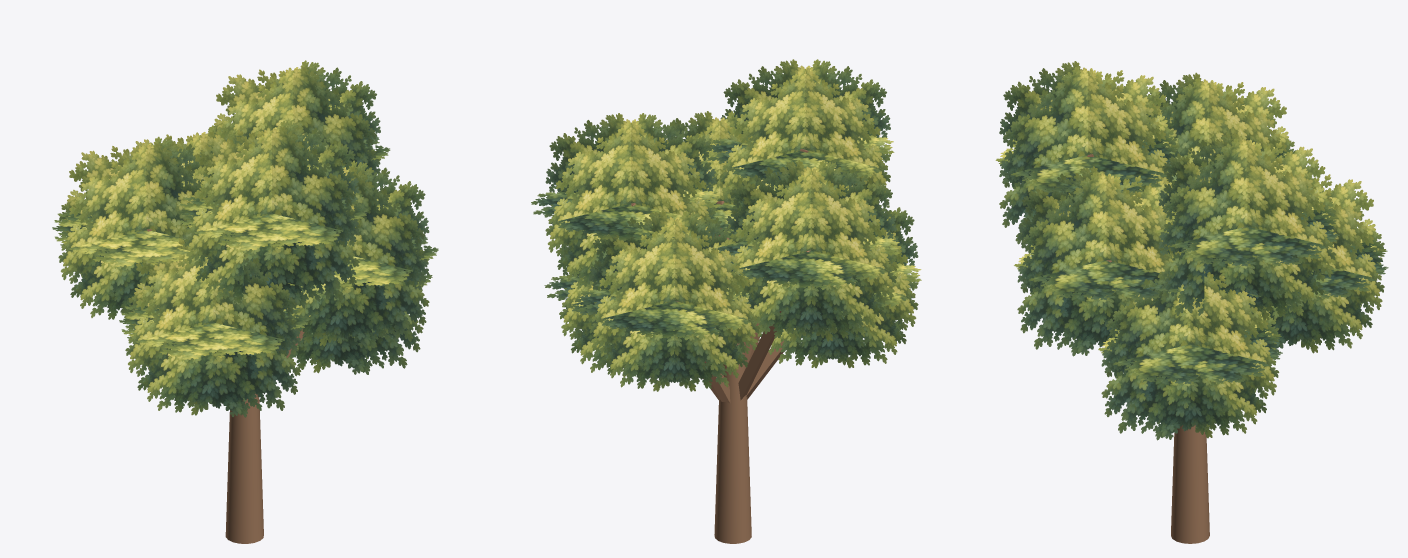
File: tree.glb
3 renders of one model, left to right at view 1: azimuth 30°, elevation 25°; view 2: azimuth 150°, elevation 25°; view 3: azimuth 270°, elevation 25°, orthographic. The views are drawn at different scales.
Visible parts, largest first — view 1: _MeshInstance3D_281, _MeshInstance3D_273; view 2: _MeshInstance3D_281, _MeshInstance3D_273, _MeshInstance3D_278; view 3: _MeshInstance3D_281, _MeshInstance3D_273.
Boxes of the visible parts, x1,y1,x2,y2 form: _MeshInstance3D_281: [52, 60, 438, 417]; _MeshInstance3D_273: [225, 393, 263, 543]; _MeshInstance3D_281: [531, 59, 921, 391]; _MeshInstance3D_273: [714, 342, 751, 543]; _MeshInstance3D_278: [738, 250, 810, 400]; _MeshInstance3D_281: [995, 61, 1388, 440]; _MeshInstance3D_273: [1171, 425, 1209, 543].
Bounding box in the file's own units: 2.59 × 3.15 × 2.48.
2 materials, 1 textured.
